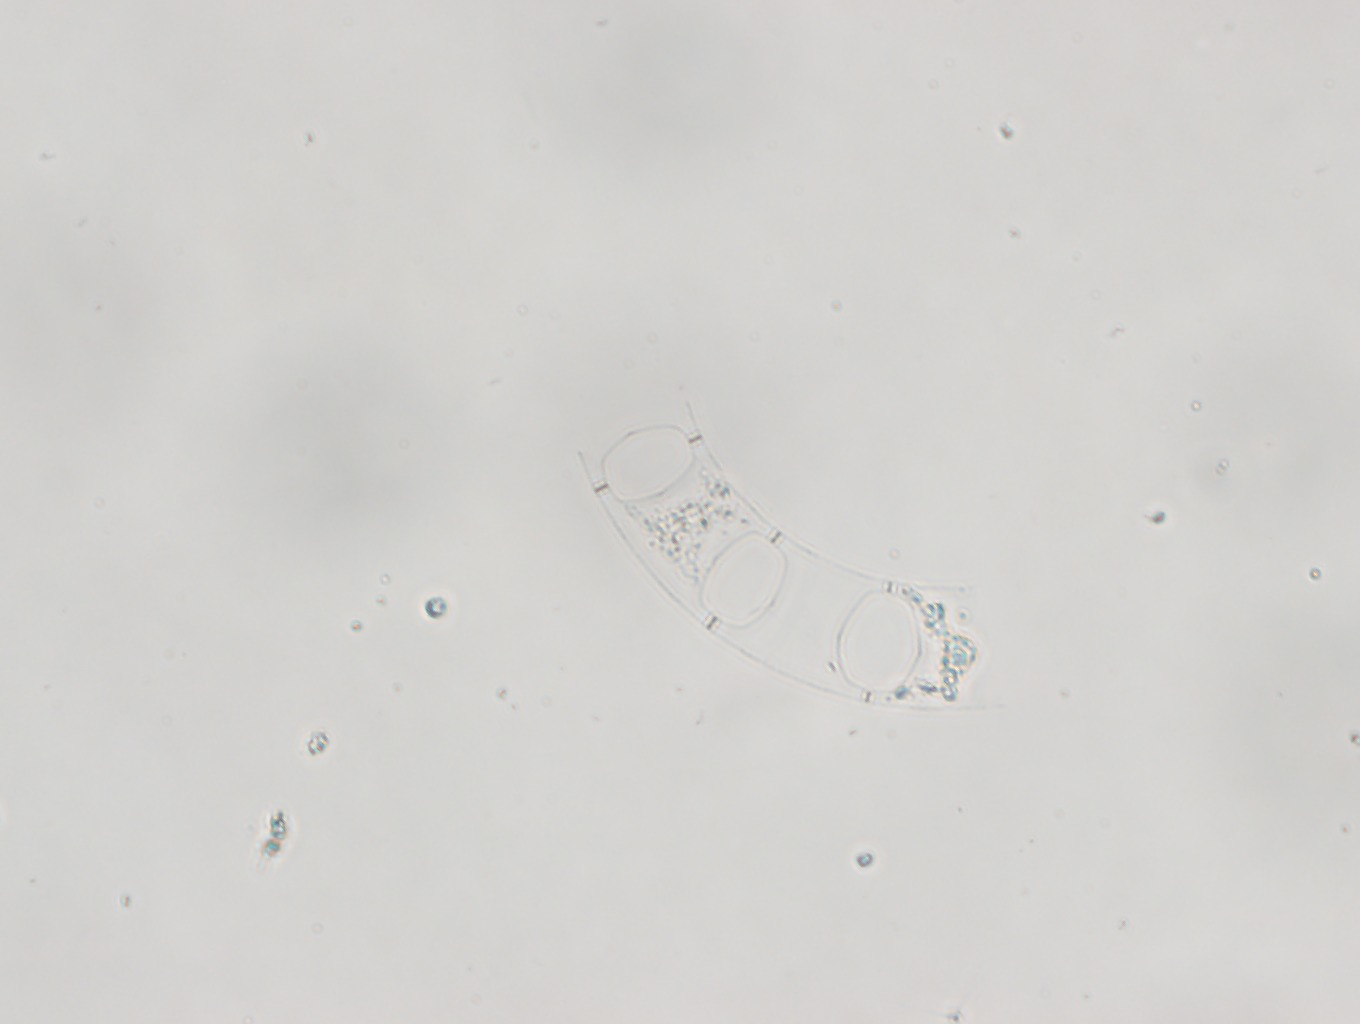eucampia: (576, 385, 998, 714)
